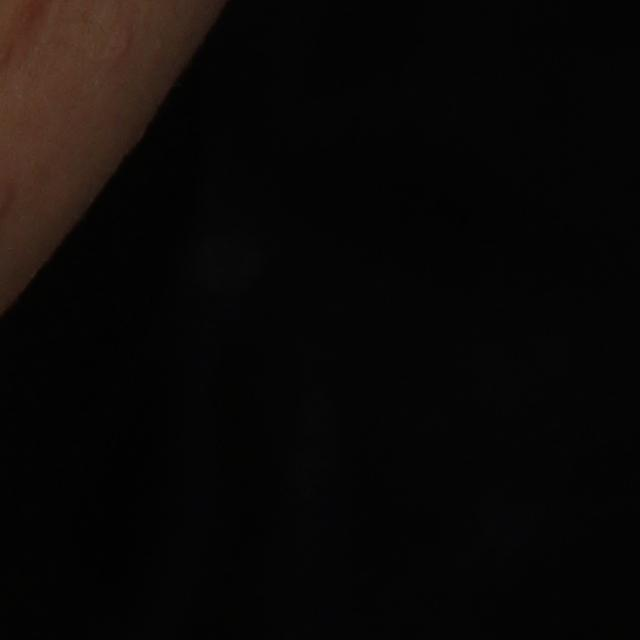papule: (108, 24, 141, 72)
